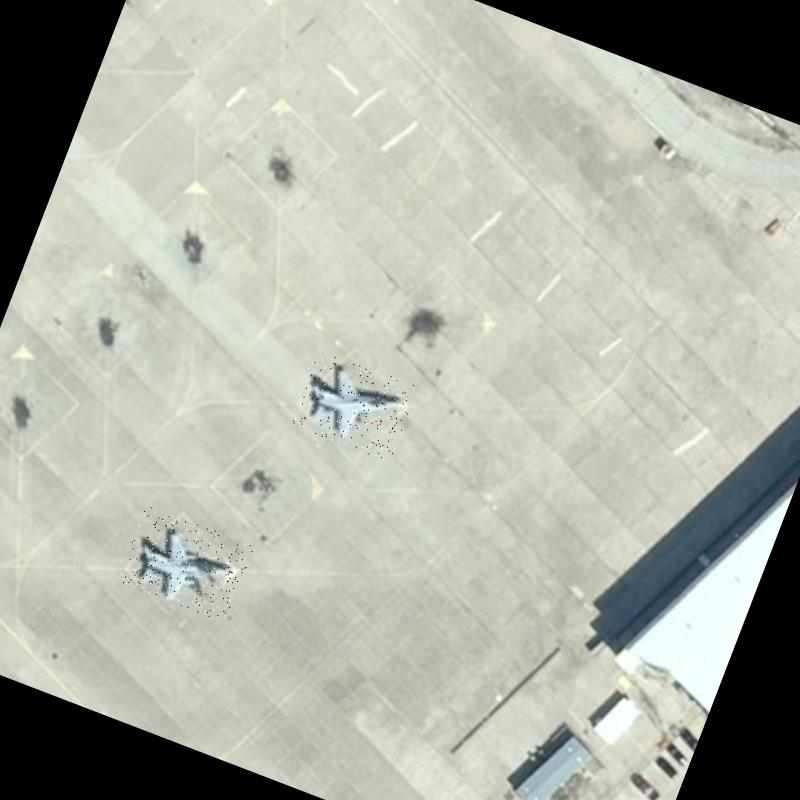A16: (114, 503, 254, 623), (286, 347, 419, 462)
